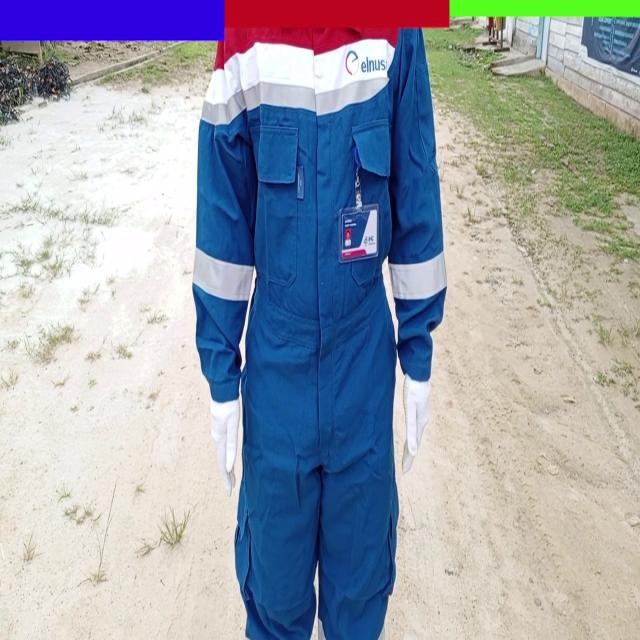Gloves: (209, 397, 241, 492), (401, 376, 432, 472)
Overall Suit: (192, 39, 447, 640)
